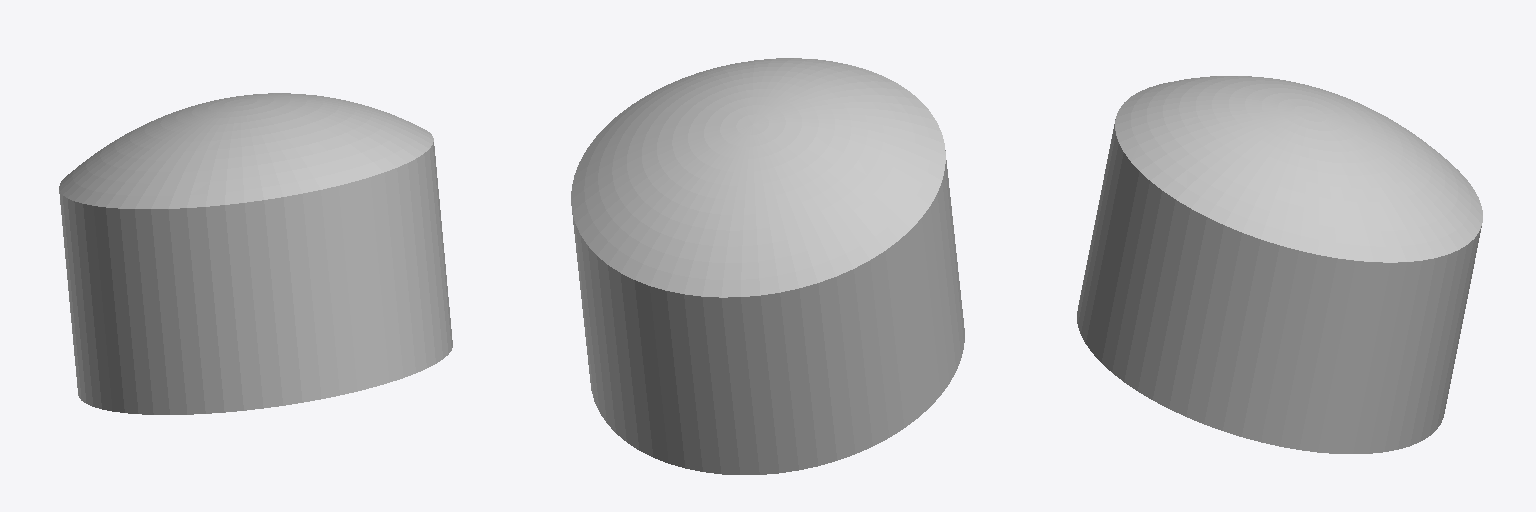
The model's file is original-4.obj.
3 renders of one model, left to right at view 1: azimuth 30°, elevation 25°; view 2: azimuth 150°, elevation 25°; view 3: azimuth 270°, elevation 25°, orthographic.
Parts seen in each view (by area): view 1: instance_0/Group_12/ID21#ID21; view 2: instance_0/Group_12/ID21#ID21; view 3: instance_0/Group_12/ID21#ID21.
Part boxes in pixels (x1,y1,x2,y2): instance_0/Group_12/ID21#ID21: (59,93,452,414); instance_0/Group_12/ID21#ID21: (571,58,964,474); instance_0/Group_12/ID21#ID21: (1077,76,1482,453).
Bounding box in the file's own units: 0.0403 × 0.0358 × 0.0434.